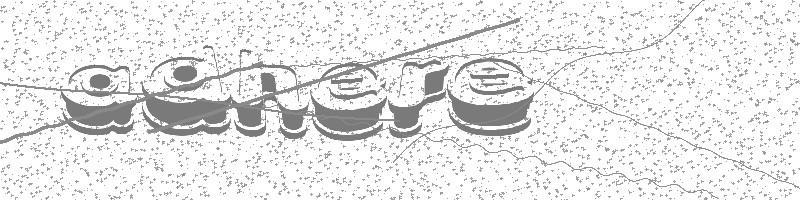a: (59, 63, 135, 136)
d: (141, 45, 232, 137)
e: (447, 57, 532, 137), (311, 62, 387, 141)
h: (233, 48, 311, 140)
r: (387, 59, 447, 139)
